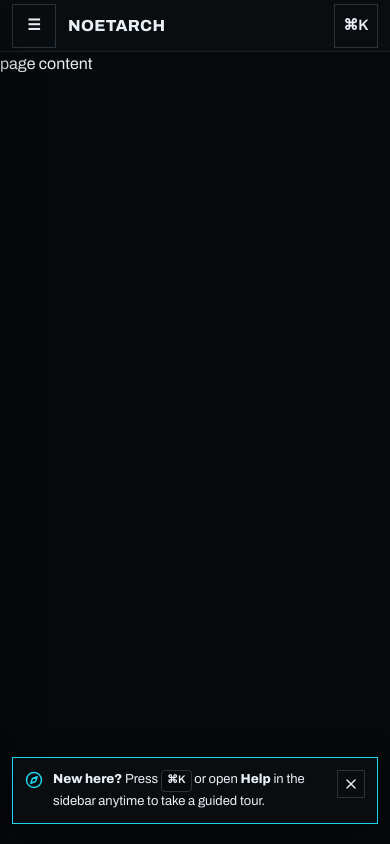
Test case: responsive shell drawer › provides a hamburger that opens the sidebar drawer
Step 1. Click the button named "Open menu" → (34, 26), box [12,4,56,48]
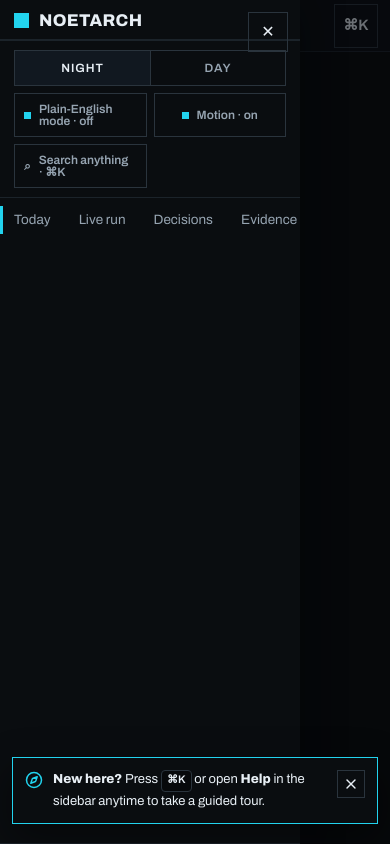
Check: the button named "Open menu" is expanded, box [12,4,56,48]
